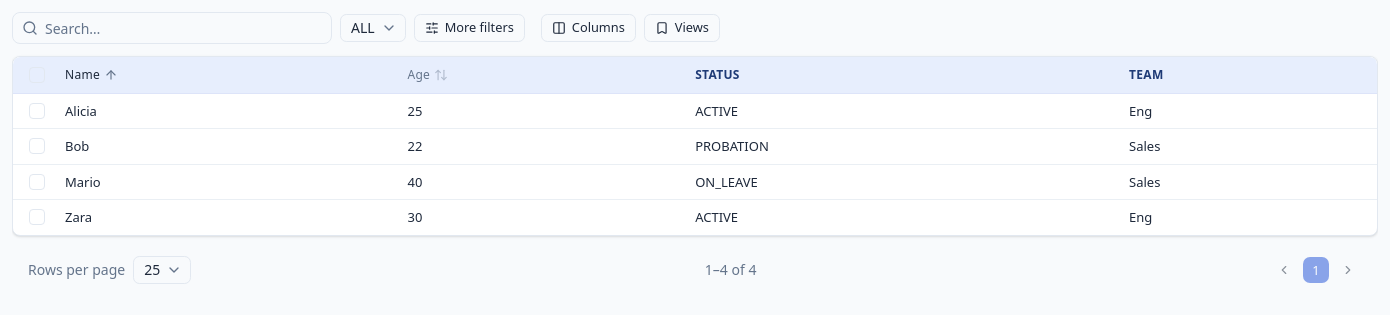
Test case: HrisDataTable › explains an empty search result and clears it
In the search field named "Search table": (172, 28) [12, 12, 332, 44], type "nobody"
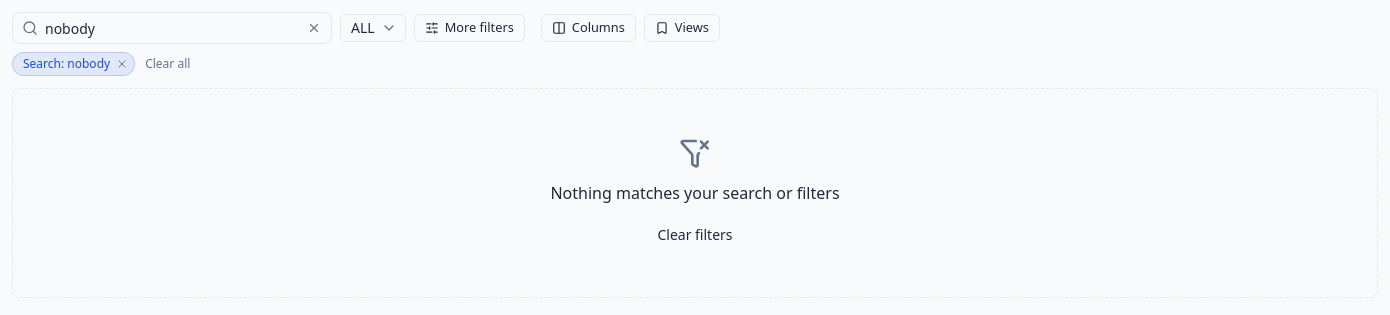
Expected: the text "Nothing matches your search or filters" is shown, [550, 181, 840, 205]
Click the button "Clear filters": (695, 235) [649, 221, 740, 249]
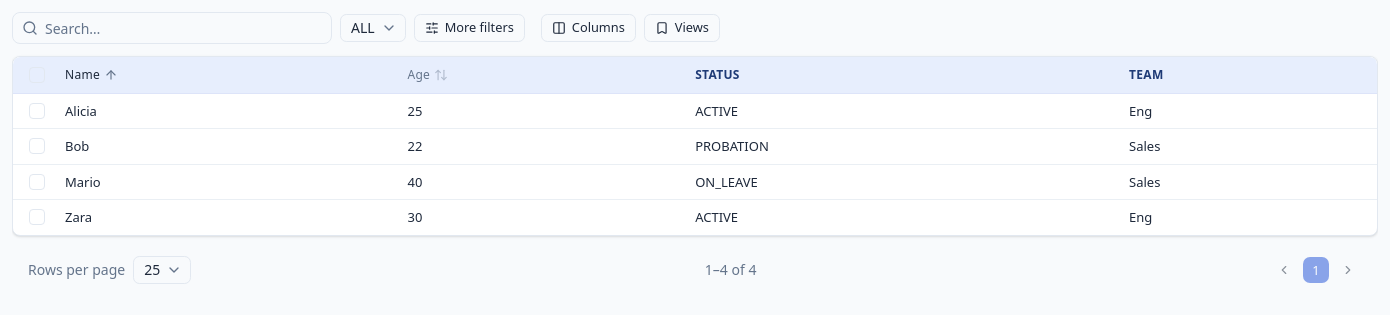
Expected: the text "Zara" is shown, [53, 200, 396, 235]
